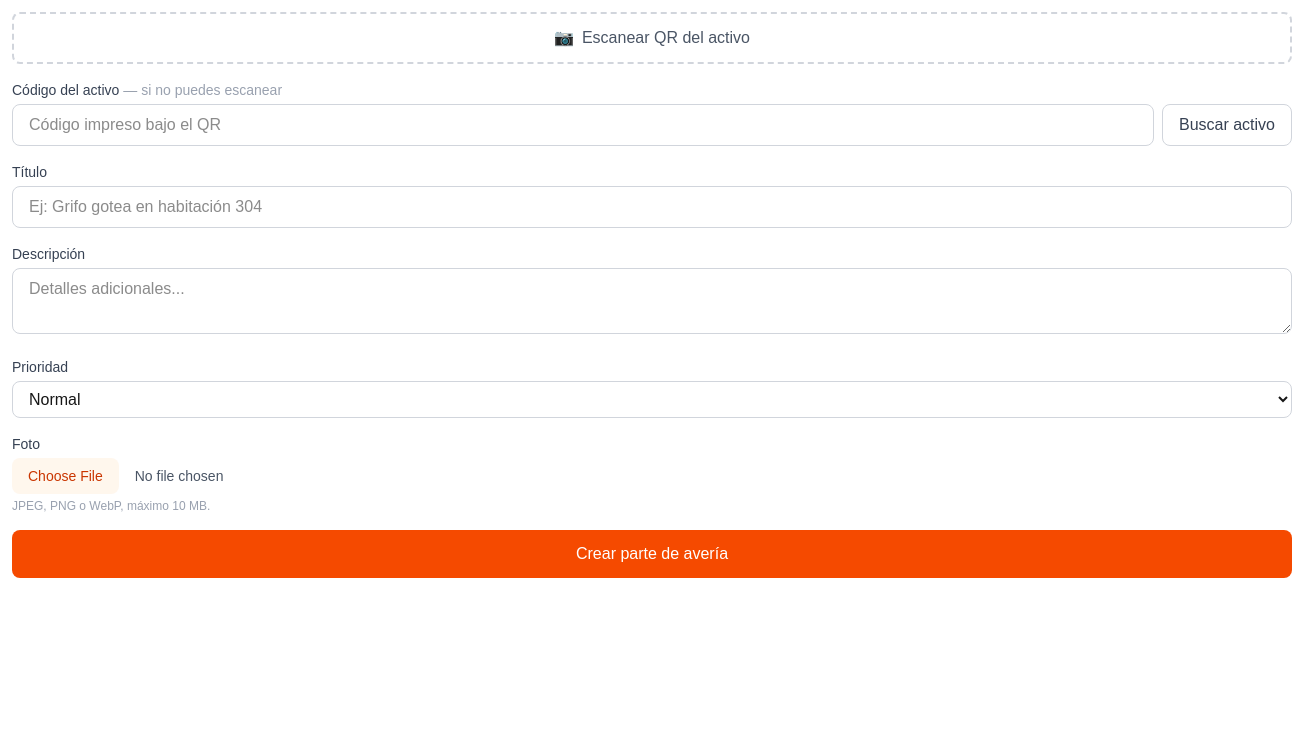
it: TicketForm › un código manual que no existe en la organización se rechaza y no fija activo
In the field labelled "Código del activo — si no puedes escanear": (583, 125) [12,104,1154,146], type "NO-EXISTE"
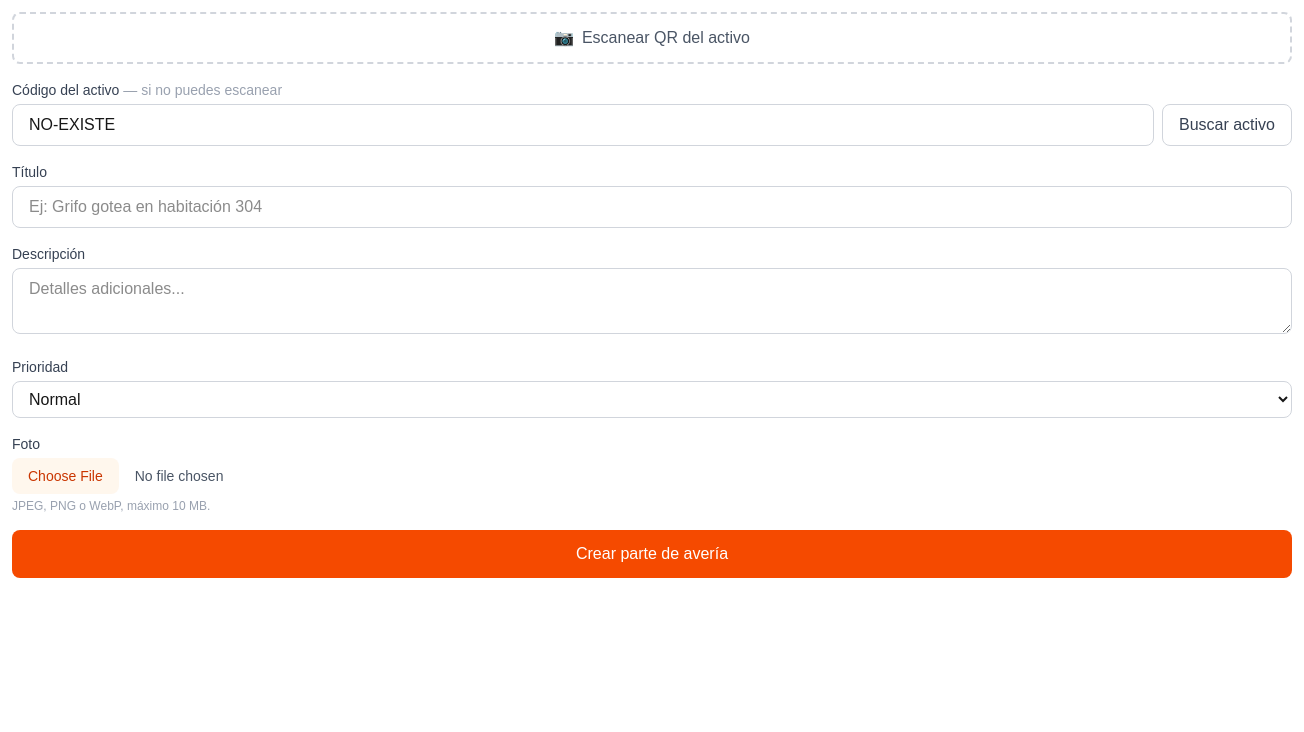
Click the button "Buscar activo": click(1227, 125) [1162,104,1292,146]
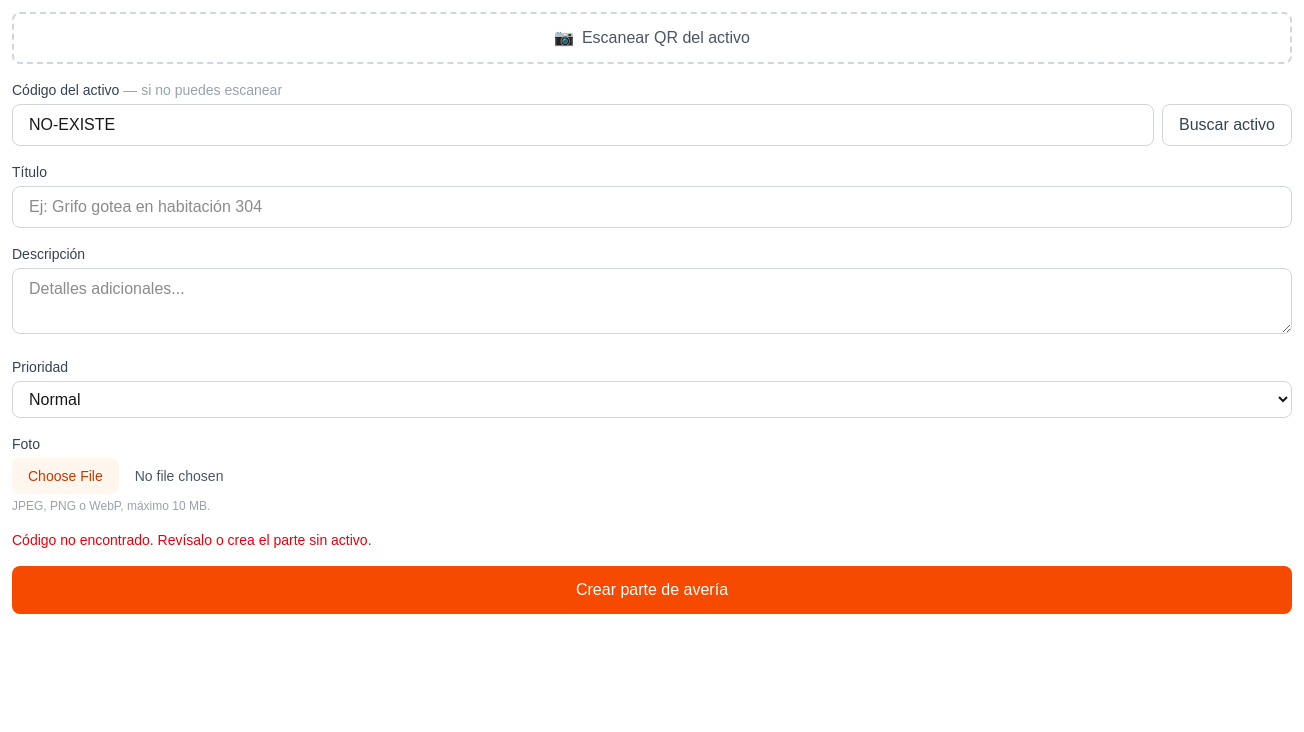
Check: the text "Código no encontrado. Revísalo o crea el parte sin activo." is shown, box [12,532,372,548]
In the field labelled "Título": (652, 207) [12,186,1292,228], type "Grifo gotea"
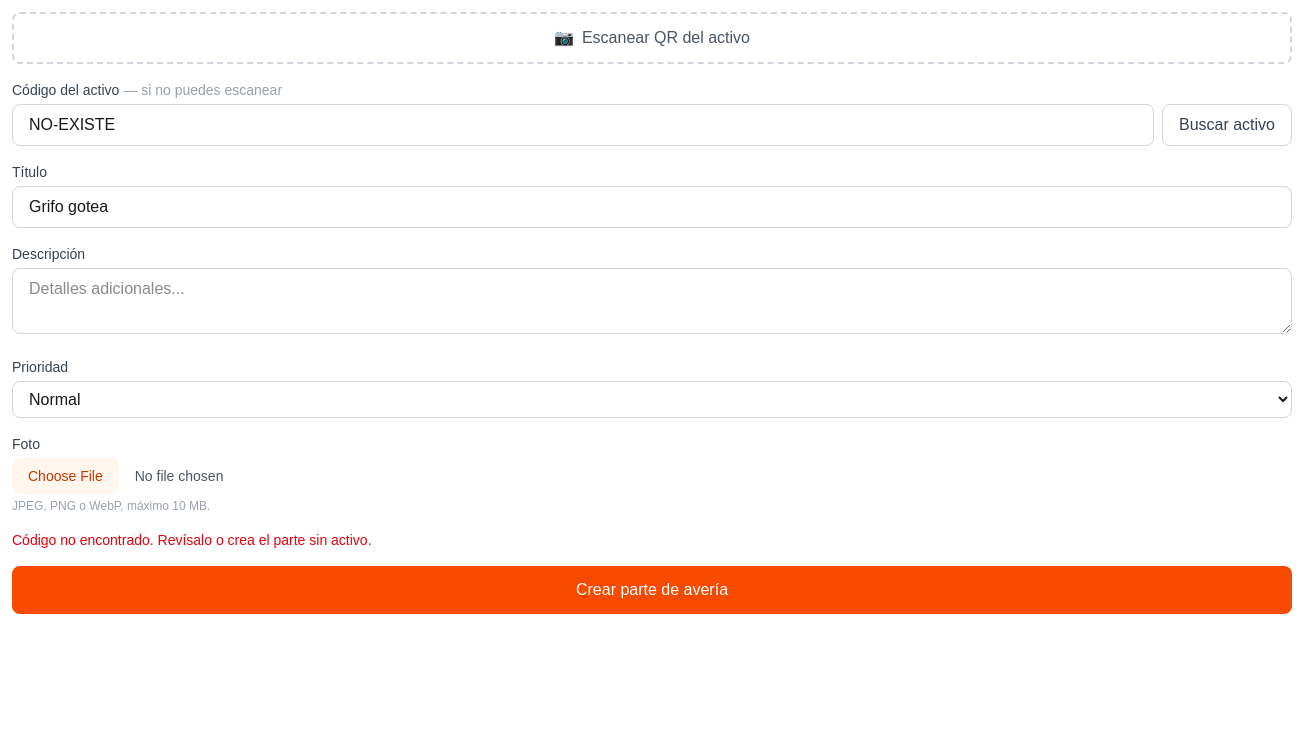
Submit the form named "crear parte"
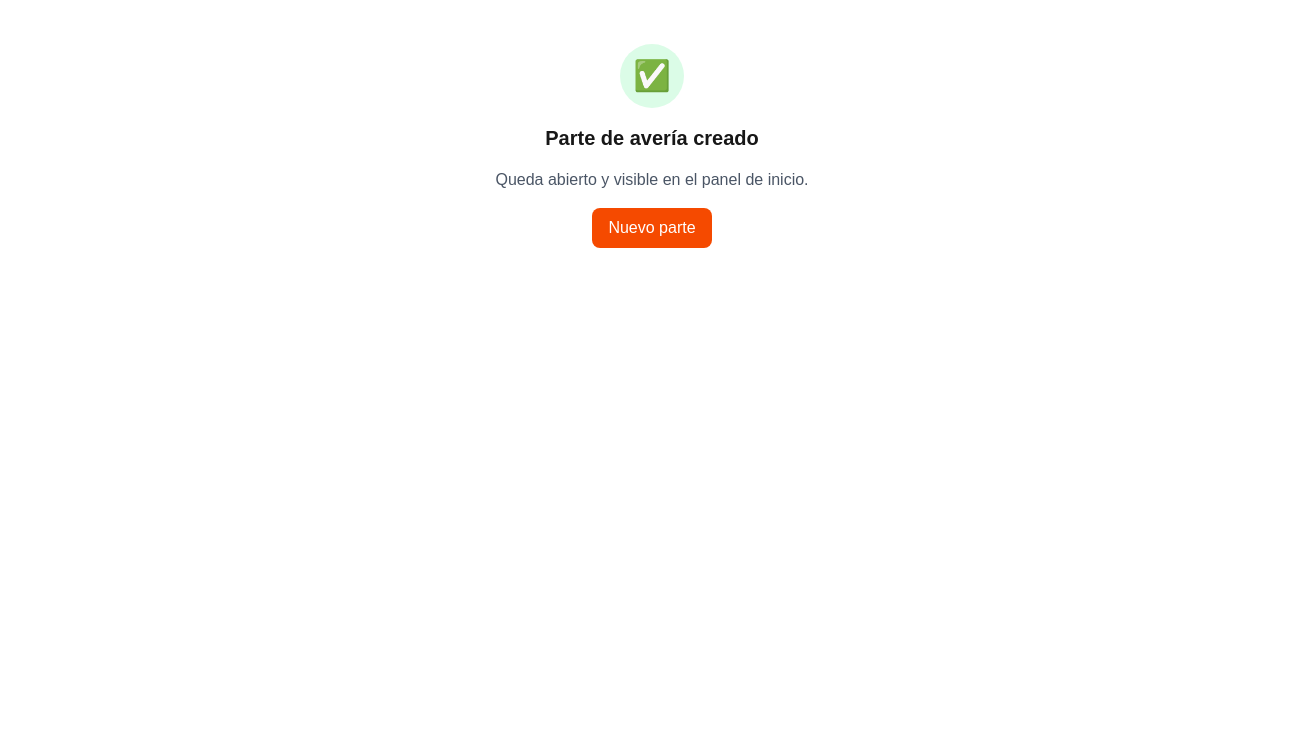
Check: the heading "Parte de avería creado" is shown, box [545,127,759,149]
